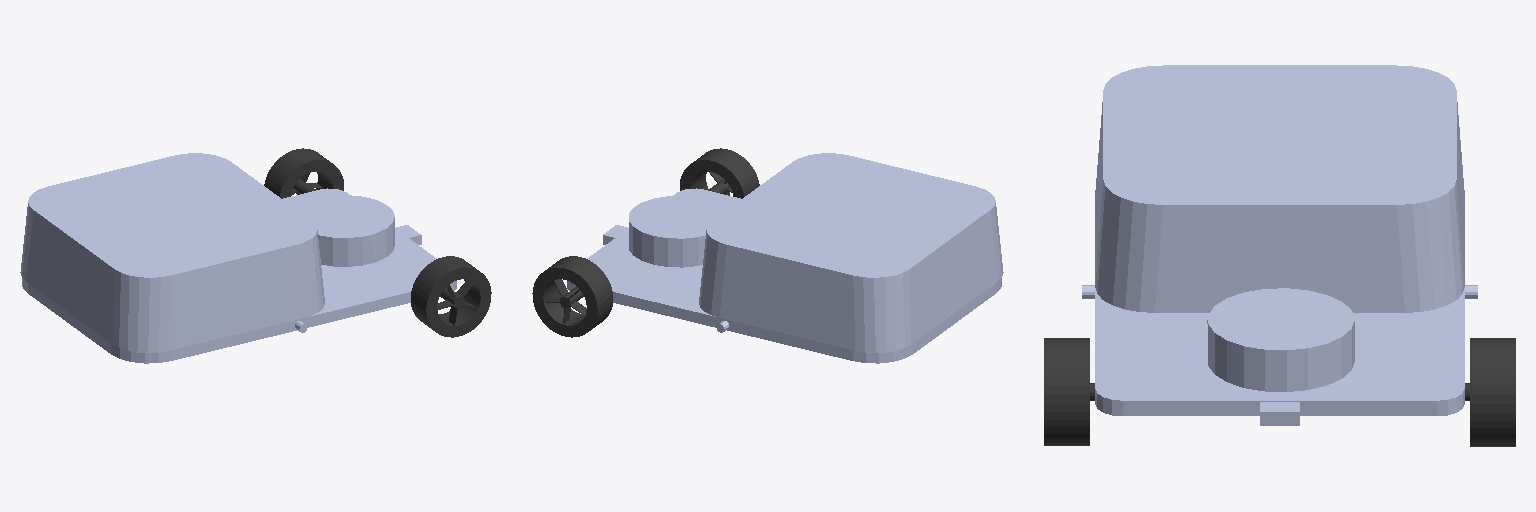
robot.urdf — Assemurdf:
<?xml version="1.0" encoding="utf-8"?>
<!-- This URDF was automatically created by SolidWorks to URDF Exporter! Originally created by [author] ([email redacted]) 
     Commit Version: 1.6.0-4-g7f85cfe  Build Version: 1.6.7995.38578
     For more information, please see http://wiki.ros.org/sw_urdf_exporter -->
<robot
  name="Assemurdf">
  <link
    name="base_link">
    <inertial>
      <origin
        xyz="-0.012984546417506 0.00386031982659382 0.0028150193347373"
        rpy="0 0 0" />
      <mass
        value="3.12447110718362" />
      <inertia
        ixx="0.0101765622751055"
        ixy="-8.33475054187555E-06"
        ixz="-0.000407885130932817"
        iyy="0.0140735401654392"
        iyz="-1.47424116291273E-06"
        izz="0.022527449194129" />
    </inertial>
    <visual>
      <origin
        xyz="0 0 0"
        rpy="0 0 0" />
      <geometry>
        <mesh
          filename="package://Assemurdf/meshes/base_link.STL" />
      </geometry>
      <material
        name="">
        <color
          rgba="0.792156862745098 0.819607843137255 0.933333333333333 1" />
      </material>
    </visual>
    <collision>
      <origin
        xyz="0 0 0"
        rpy="0 0 0" />
      <geometry>
        <mesh
          filename="package://Assemurdf/meshes/base_link.STL" />
      </geometry>
    </collision>
  </link>
  <link
    name="leftwheel">
    <inertial>
      <origin
        xyz="2.77555756156289E-17 -1.72084568816899E-15 0.24671810745511"
        rpy="0 0 0" />
      <mass
        value="0.0154842443751589" />
      <inertia
        ixx="6.32949606004192E-06"
        ixy="8.10885382994361E-22"
        ixz="-7.75313443278777E-23"
        iyy="6.32949606004192E-06"
        iyz="-3.0598357474165E-20"
        izz="1.06002362306982E-05" />
    </inertial>
    <visual>
      <origin
        xyz="0 0 0"
        rpy="0 0 0" />
      <geometry>
        <mesh
          filename="package://Assemurdf/meshes/leftwheel.STL" />
      </geometry>
      <material
        name="">
        <color
          rgba="0.294117647058824 0.294117647058824 0.294117647058824 1" />
      </material>
    </visual>
    <collision>
      <origin
        xyz="0 0 0"
        rpy="0 0 0" />
      <geometry>
        <mesh
          filename="package://Assemurdf/meshes/leftwheel.STL" />
      </geometry>
    </collision>
  </link>
  <joint
    name="leftwheel"
    type="continuous">
    <origin
      xyz="0.1589 -0.12577 -0.023525"
      rpy="-1.5708 0 0" />
    <parent
      link="base_link" />
    <child
      link="leftwheel" />
    <axis
      xyz="0 0 -1" />
    <limit
      effort="10"
      velocity="10" />
    <dynamics
      damping="0.1"
      friction="0.1" />
  </joint>
  <link
    name="rightwheel">
    <inertial>
      <origin
        xyz="0 -8.32667268468867E-17 0.0124818923568899"
        rpy="0 0 0" />
      <mass
        value="0.0154842443751589" />
      <inertia
        ixx="6.32949606004192E-06"
        ixy="1.32770758776718E-21"
        ixz="1.29112806876612E-21"
        iyy="6.32949606004192E-06"
        iyz="-3.02088668473641E-20"
        izz="1.06002362306982E-05" />
    </inertial>
    <visual>
      <origin
        xyz="0 0 0"
        rpy="0 0 0" />
      <geometry>
        <mesh
          filename="package://Assemurdf/meshes/rightwheel.STL" />
      </geometry>
      <material
        name="">
        <color
          rgba="0.294117647058824 0.294117647058824 0.294117647058824 1" />
      </material>
    </visual>
    <collision>
      <origin
        xyz="0 0 0"
        rpy="0 0 0" />
      <geometry>
        <mesh
          filename="package://Assemurdf/meshes/rightwheel.STL" />
      </geometry>
    </collision>
  </link>
  <joint
    name="rightwheel"
    type="continuous">
    <origin
      xyz="0.1589 -0.12577 -0.023525"
      rpy="-1.5708 0 0" />
    <parent
      link="base_link" />
    <child
      link="rightwheel" />
    <axis
      xyz="0 0 -1" />
    <limit
      effort="10"
      velocity="10" />
    <dynamics
      damping="1"
      friction="1" />
  </joint>
</robot>

--- Render facts (derived) ---
3 views of the same robot in one strip: view 1: azimuth 30°, elevation 25°; view 2: azimuth 150°, elevation 25°; view 3: azimuth 270°, elevation 25° (orthographic).
Model Assemurdf with 3 links and 2 joints (2 continuous), rooted at base_link, posed every joint at zero.
Visible links, largest first — view 1: base_link, rightwheel, leftwheel; view 2: base_link, leftwheel, rightwheel; view 3: base_link, leftwheel, rightwheel.
Boxes of the visible links, x1,y1,x2,y2 form: base_link: [20, 153, 456, 363]; rightwheel: [411, 256, 491, 337]; leftwheel: [264, 148, 343, 198]; base_link: [567, 153, 1003, 363]; leftwheel: [532, 256, 612, 337]; rightwheel: [680, 148, 759, 198]; base_link: [1082, 65, 1477, 425]; leftwheel: [1465, 338, 1515, 446]; rightwheel: [1044, 338, 1094, 445].
Bounding box of the posed robot: 0.3175 × 0.2592 × 0.1062 m (x, y, z).
3 mesh visuals loaded from 3 distinct referenced files (3 binary STL).